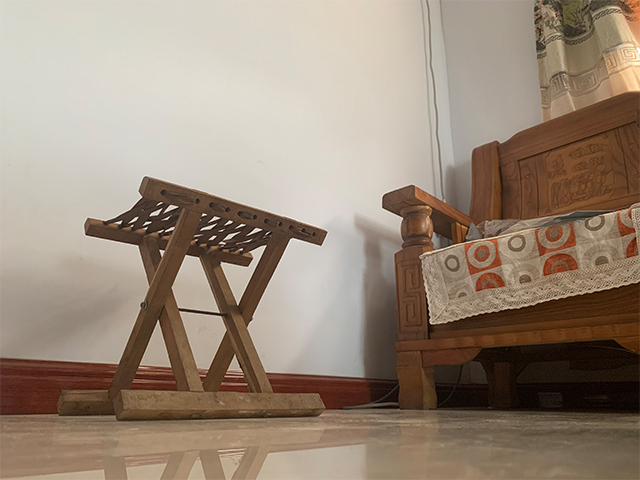sofa: (381, 89, 640, 412)
stool: (55, 174, 329, 421)
wire: (341, 362, 465, 411)
